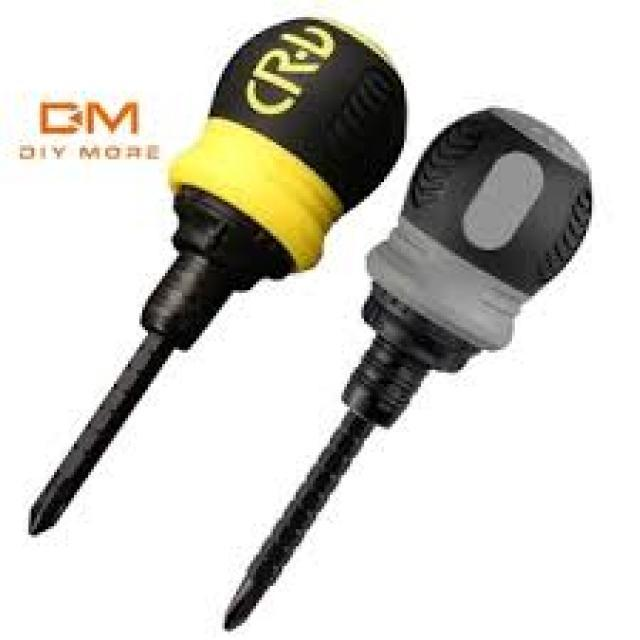screwdriver: (19, 14, 408, 546), (214, 107, 594, 636)
